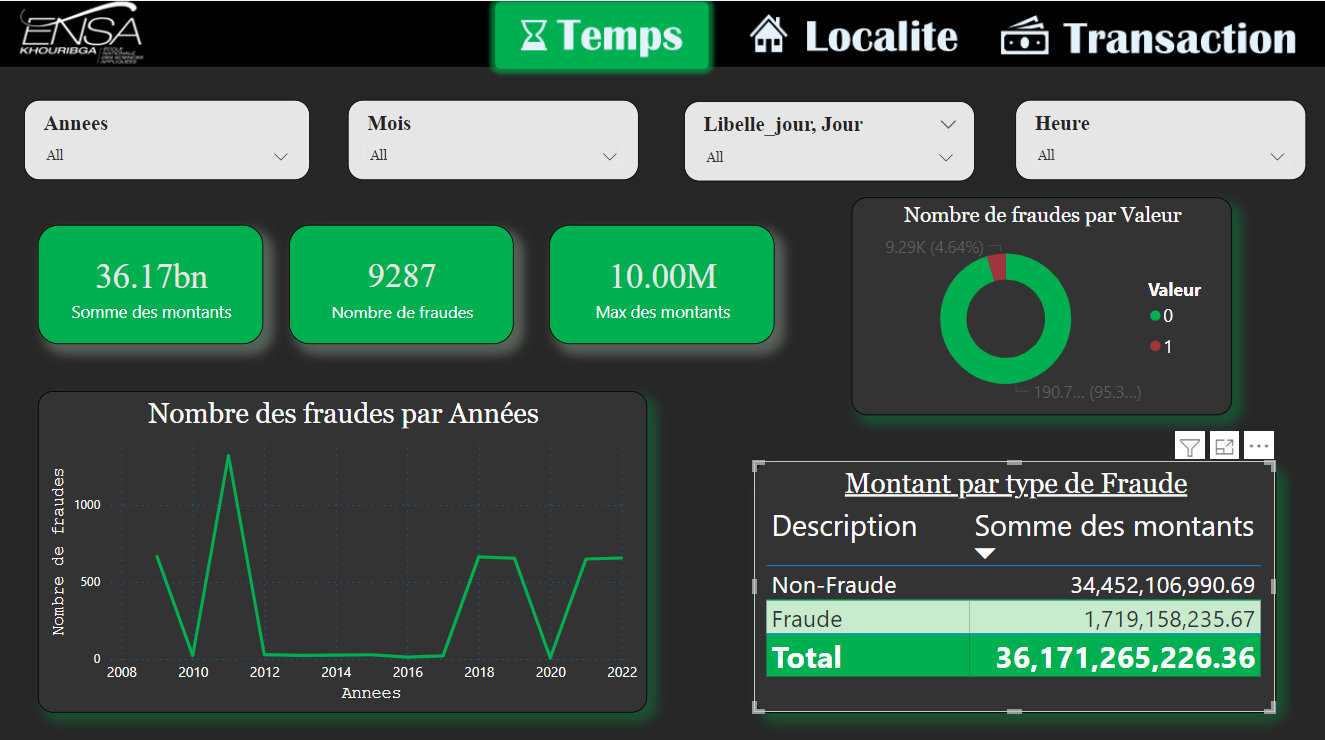

What the dashboard file says about the page in this screenshot:
{"tool":"powerbi","page":{"name":"Temps","canvas":[1280,720],"ordinal":0},"visuals":[{"type":"actionButton","box":[692.2,0,259.6,64.5],"z":0},{"type":"actionButton","box":[962.7,0,317.3,64.5],"z":1000},{"type":"slicer","fields":{"Values":["Temps.Libelle_jour","Temps.Jour"]},"box":[660.3,96.6,281,77.6],"z":2000},{"type":"card","fields":{"Values":["Sum(Table_Fraude.amount)"]},"box":[37.9,215.5,217.2,115.5],"z":3000},{"type":"card","fields":{"Values":["Max(Table_Fraude.amount)"]},"box":[531,215.5,217.2,115.5],"z":4000},{"type":"slicer","fields":{"Values":["Temps.Annees"]},"box":[24.1,94.8,275.9,77.6],"z":5000},{"type":"slicer","fields":{"Values":["Temps.Mois"]},"box":[336.2,94.8,281,77.6],"z":6000},{"type":"donutChart","title":"Nombre de fraudes par Valeur","fields":{"Series":["Table_Fraude.isFraud"],"Y":["CountNonNull(Table_Fraude.isFraud)"]},"box":[822.4,189.7,367.2,210.3],"z":7000},{"type":"lineChart","title":"Nombre des fraudes par Années","fields":{"Y":["Sum(Table_Fraude.isFraud)"],"Category":["Temps.Annees"]},"box":[37.9,375.9,587.9,310.3],"z":8000},{"type":"tableEx","title":"Montant par type de Fraude","fields":{"Values":["Fraude.Description","Sum(Table_Fraude.amount)"]},"box":[727.9,443.6,504,243.1],"z":9000},{"type":"card","fields":{"Values":["Sum(Table_Fraude.isFraud)"]},"box":[280.2,215.6,217,115.4],"z":10000},{"type":"slicer","fields":{"Values":["Temps.Heure"]},"box":[981,94.8,281,77.6],"z":11000}]}

Visuals, with their boxes in screenshot pixels (x1, y1, x2, y2), scaled from the page's 1280x720 canvas onto the 1325x740 screenshot:
actionButton: (717, 0, 985, 66)
actionButton: (997, 0, 1324, 66)
slicer - Temps.Libelle_jour x Temps.Jour: (684, 99, 974, 179)
card - Sum(Table_Fraude.amount): (39, 221, 264, 340)
card - Max(Table_Fraude.amount): (550, 221, 775, 340)
slicer - Temps.Annees: (25, 97, 311, 177)
slicer - Temps.Mois: (348, 97, 639, 177)
"Nombre de fraudes par Valeur" donutChart: (851, 195, 1231, 411)
"Nombre des fraudes par Années" lineChart: (39, 386, 648, 705)
"Montant par type de Fraude" tableEx: (753, 456, 1275, 706)
card - Sum(Table_Fraude.isFraud): (290, 222, 515, 340)
slicer - Temps.Heure: (1015, 97, 1306, 177)
